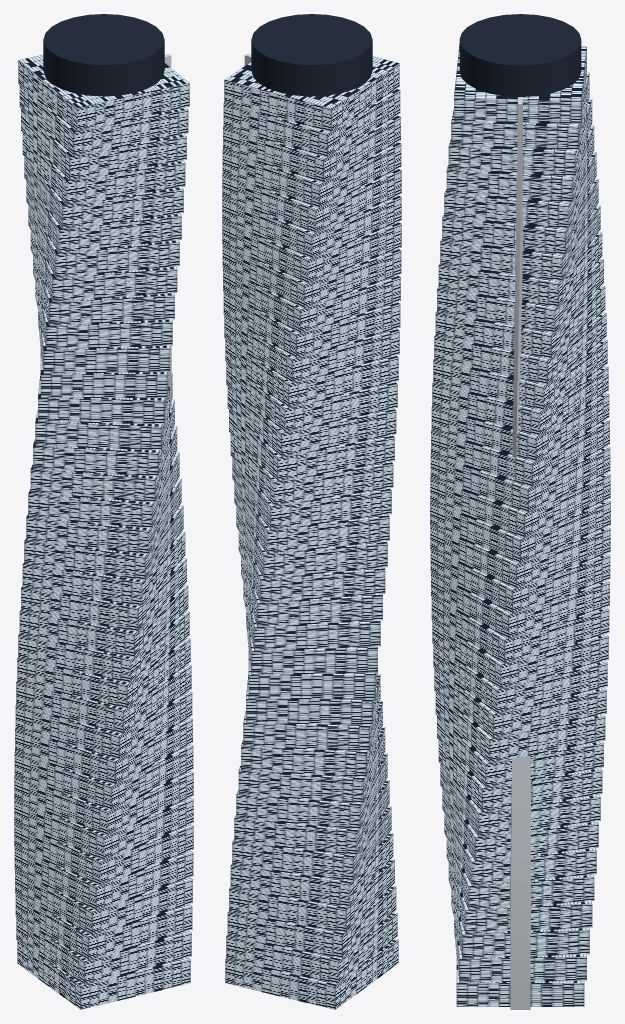
The model's file is cayan-twisting-tower.glb.
3 views of the same model, side by side, from view 1: azimuth 30°, elevation 25°; view 2: azimuth 150°, elevation 25°; view 3: azimuth 270°, elevation 25° (orthographic).
Size of the model in its own units: 3.11 by 17.88 by 3.11.
Materials: 3 (1 with a texture image).
